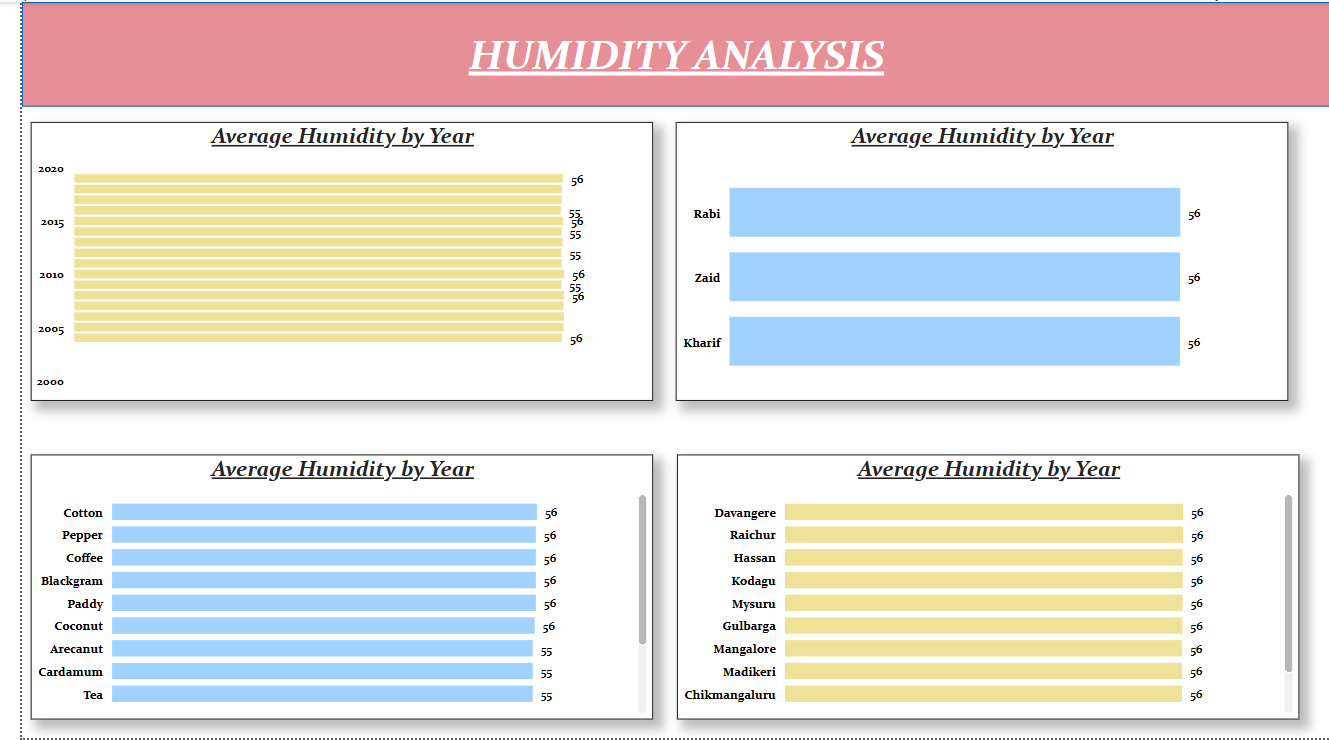

This screenshot's page, from the dashboard's own definition file:
{"tool":"powerbi","page":{"name":"Humidity Analysis","canvas":[1280,720],"ordinal":2},"visuals":[{"type":"shape","box":[0,0,1280.3,102.7],"z":0},{"type":"barChart","title":"Average Humidity by Year","fields":{"Category":["AGRICULTURE.YEAR"],"Y":["Avg(AGRICULTURE.HUMIDITY)"]},"box":[8.6,117.4,609,272.7],"z":1000},{"type":"barChart","title":"Average Humidity by Year","fields":{"Category":["AGRICULTURE.SEASON"],"Y":["Avg(AGRICULTURE.HUMIDITY)"]},"box":[639.5,117.4,599.2,272.7],"z":2000},{"type":"barChart","title":"Average Humidity by Year","fields":{"Category":["AGRICULTURE.CROPS"],"Y":["Avg(AGRICULTURE.HUMIDITY)"]},"box":[8.6,442.7,609,259.2],"z":3000},{"type":"barChart","title":"Average Humidity by Year","fields":{"Category":["AGRICULTURE.LOCATION"],"Y":["Avg(AGRICULTURE.HUMIDITY)"]},"box":[640.8,442.7,609,259.2],"z":4000}]}

Visuals, with their boxes in screenshot pixels (x1, y1, x2, y2), scaled from the page's 1280x720 canvas onto the 1329x740 screenshot:
shape: (left=0, top=0, right=1328, bottom=106)
"Average Humidity by Year" barChart: (left=9, top=121, right=641, bottom=401)
"Average Humidity by Year" barChart: (left=664, top=121, right=1286, bottom=401)
"Average Humidity by Year" barChart: (left=9, top=455, right=641, bottom=721)
"Average Humidity by Year" barChart: (left=665, top=455, right=1298, bottom=721)
